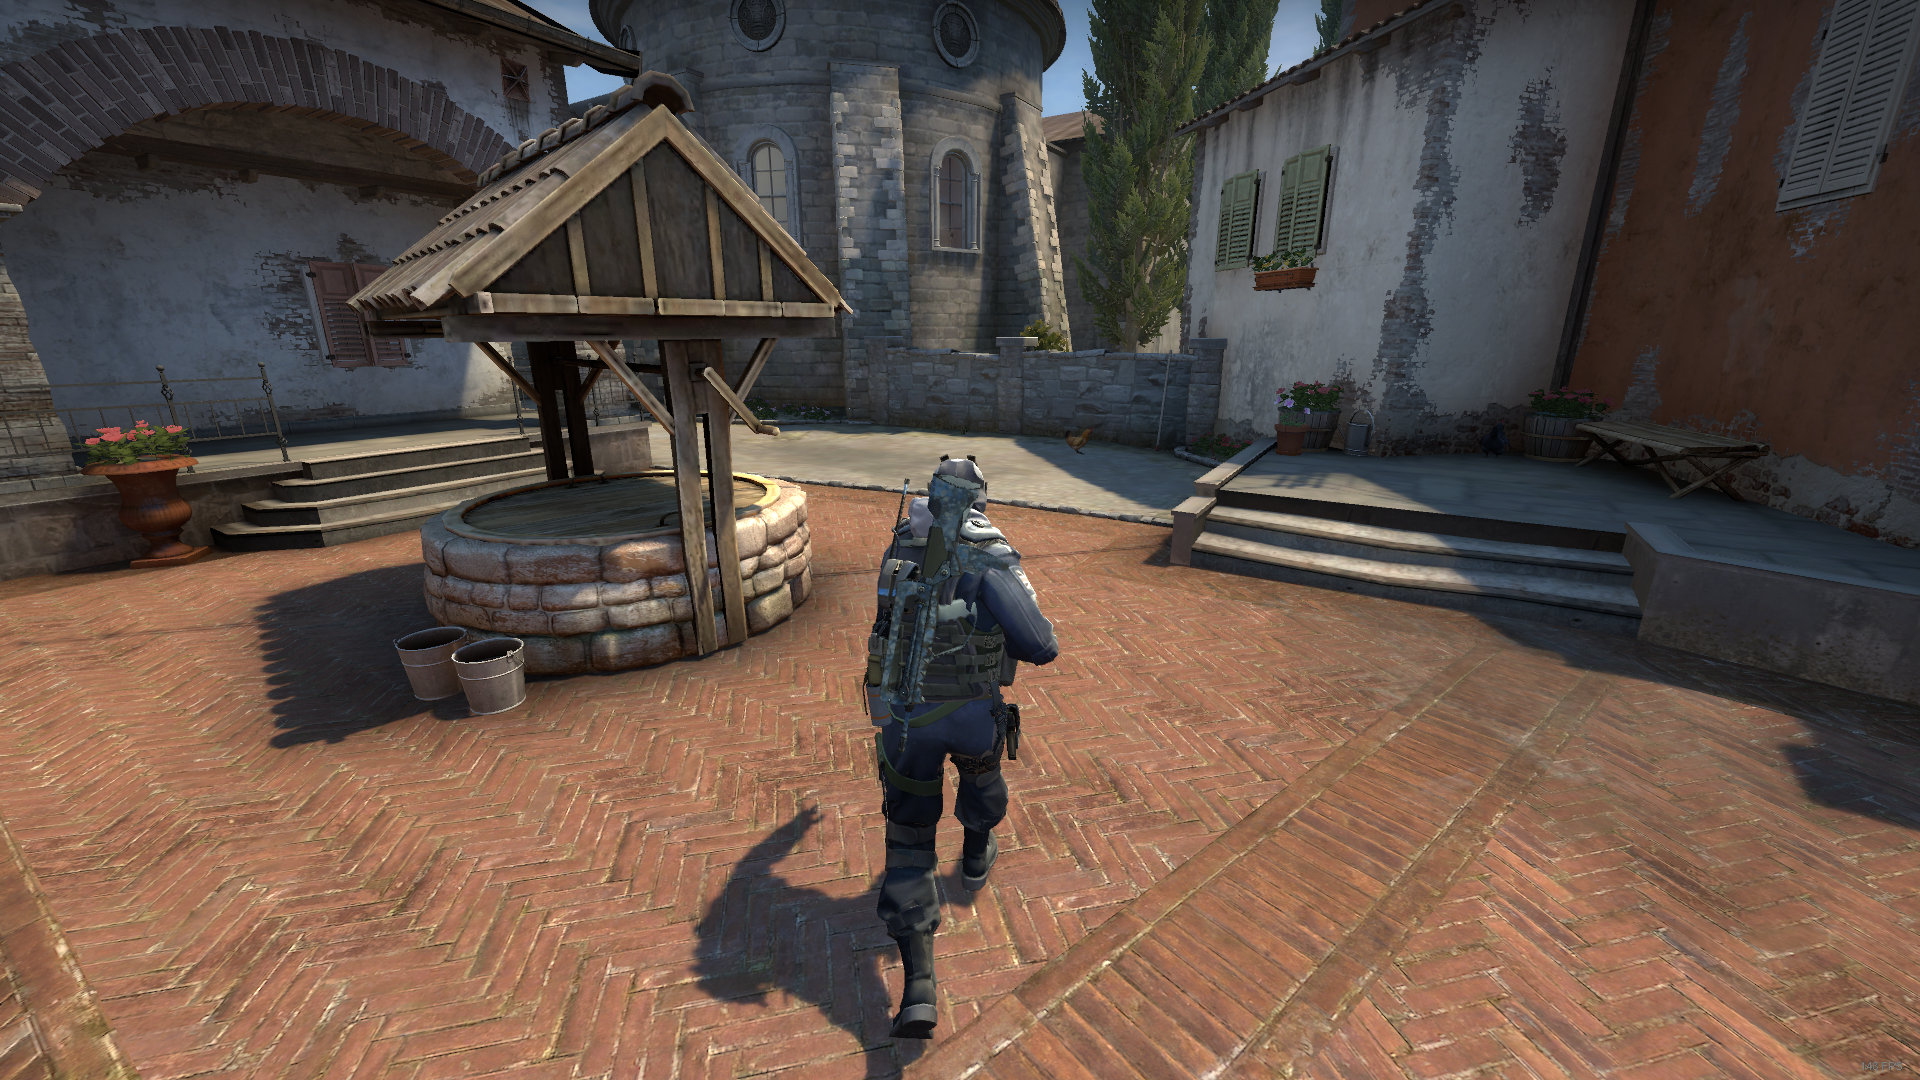ct: (853, 448, 1062, 1055)
